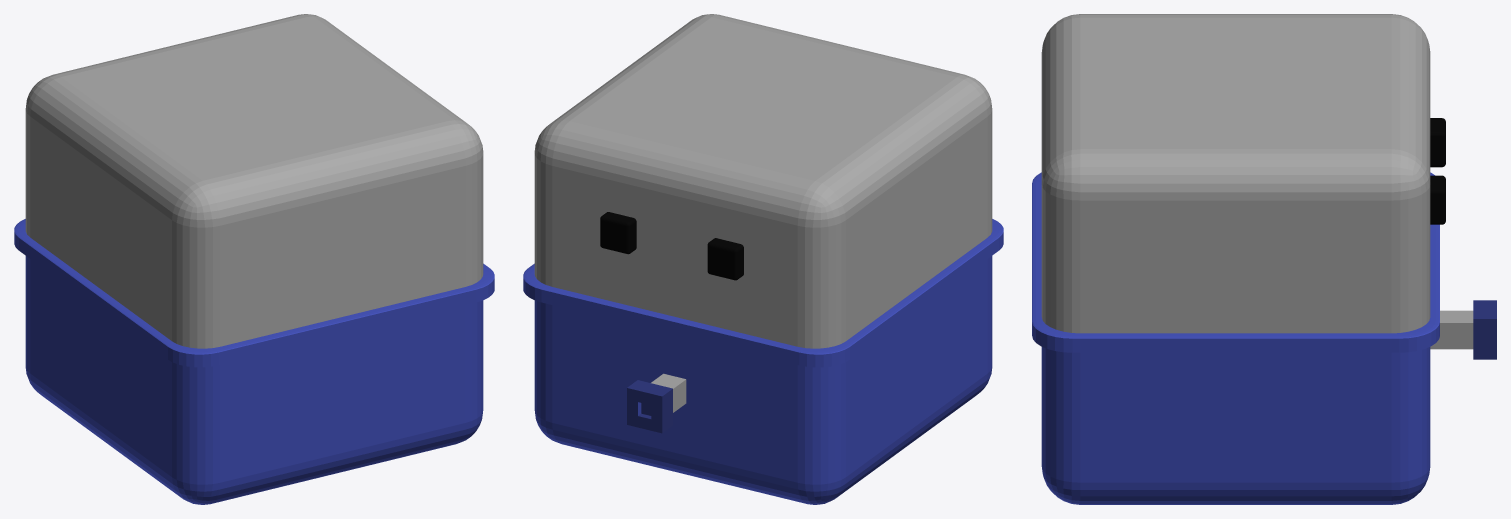
The model's file is Blubber.glb.
The picture shows the model from 3 angles, left to right: view 1: azimuth 30°, elevation 25°; view 2: azimuth 150°, elevation 25°; view 3: azimuth 270°, elevation 25°; orthographic projection. The views are drawn at different scales.
Parts seen in each view (by area): view 1: Blubber.001; view 2: Blubber.001; view 3: Blubber.001.
Boxes of the visible parts, left/top/right/bottom form: Blubber.001: left=14, top=14, right=494, bottom=504; Blubber.001: left=523, top=14, right=1003, bottom=504; Blubber.001: left=1032, top=14, right=1496, bottom=504.
Bounding box in the file's own units: 2.1 × 2 × 2.39.
